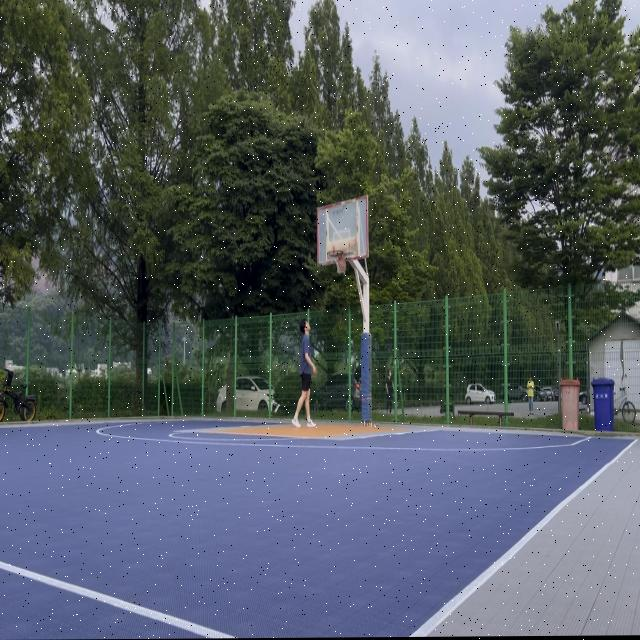basketball: (338, 259, 346, 274)
hoop: (326, 250, 346, 276), (327, 250, 346, 276)
